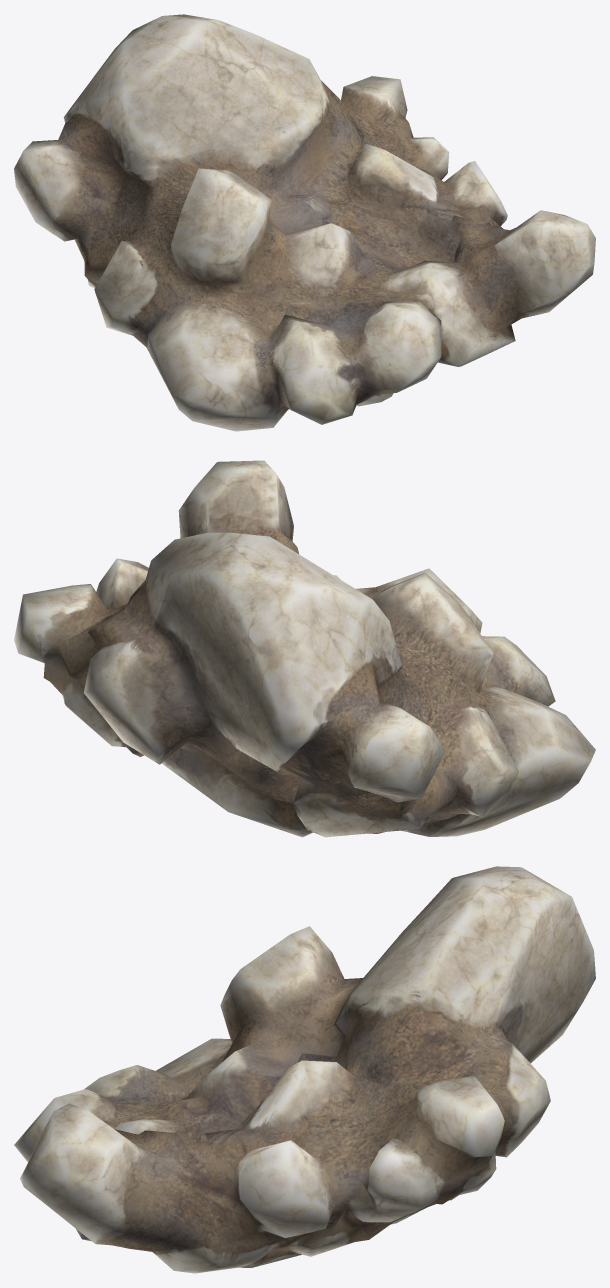
File: SM_StoneNode_1.fbx
The picture shows the model from 3 angles, top to bottom: view 1: azimuth 30°, elevation 25°; view 2: azimuth 150°, elevation 25°; view 3: azimuth 270°, elevation 25°; orthographic projection. The views are drawn at different scales.
Parts seen in each view (by area): view 1: SM_StoneNode_1; view 2: SM_StoneNode_1; view 3: SM_StoneNode_1.
Part boxes in pixels (x1=…): SM_StoneNode_1: x1=14, y1=14, x2=595, y2=431; SM_StoneNode_1: x1=14, y1=460, x2=595, y2=837; SM_StoneNode_1: x1=14, y1=866, x2=595, y2=1273.
Bounding box in the file's own units: 1.23 × 0.9234 × 1.36.
